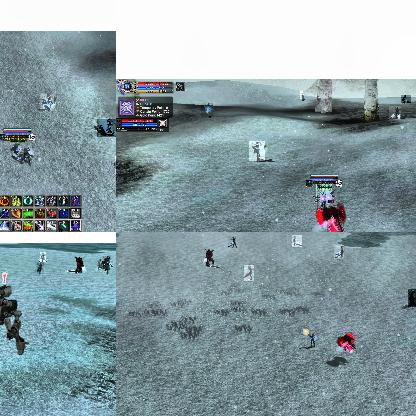caliana: (97, 119, 116, 136), (249, 141, 265, 161), (40, 93, 56, 111), (201, 103, 213, 117), (389, 106, 401, 120), (244, 265, 254, 281), (407, 289, 416, 306), (334, 245, 344, 259), (292, 235, 302, 247), (36, 262, 44, 274), (228, 236, 236, 248), (401, 95, 411, 103), (40, 252, 46, 262), (300, 91, 304, 99), (98, 259, 100, 269)
